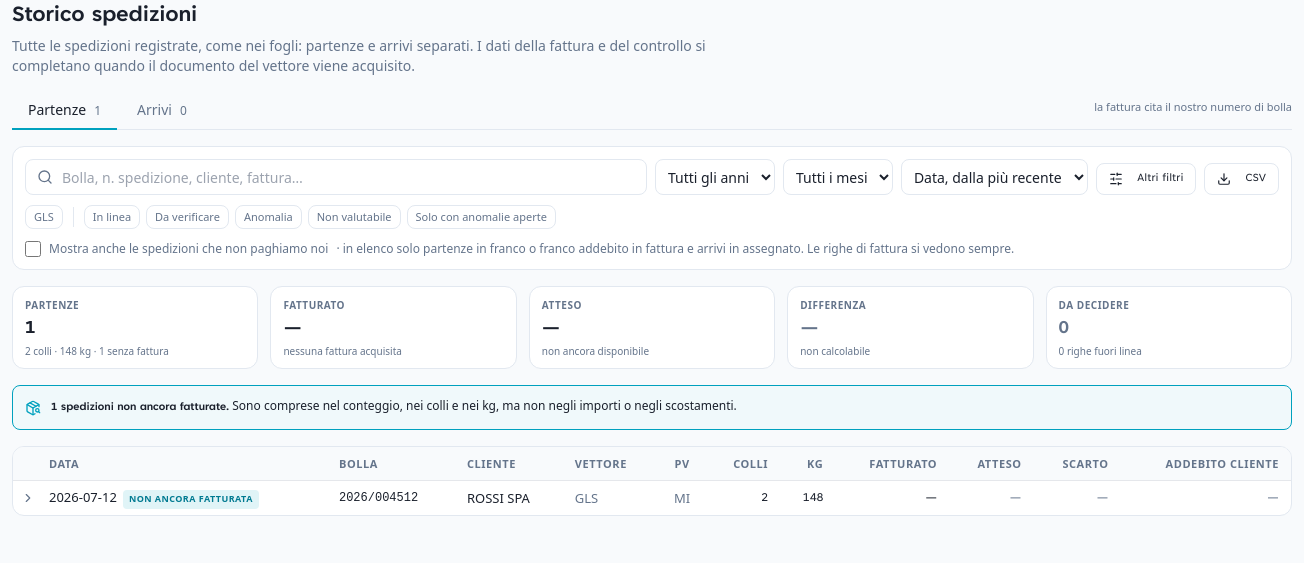
Test: StoricoView: filtri cambiati in fila › la risposta di un filtro superato non sostituisce quella dell'ultimo
Step 1. Select "agosto" in the dropdown named "Mese di riferimento" → (838, 177), box [783, 159, 893, 195]
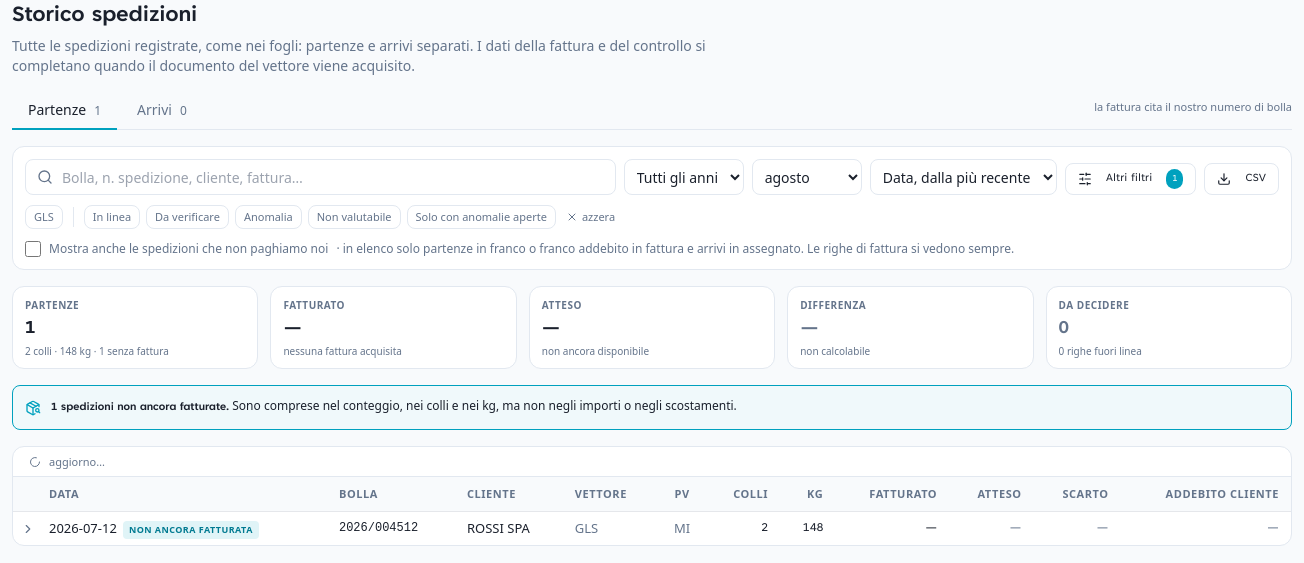
Step 2. Select "2026" in the dropdown named "Anno di riferimento" → (684, 177), box [624, 159, 744, 195]
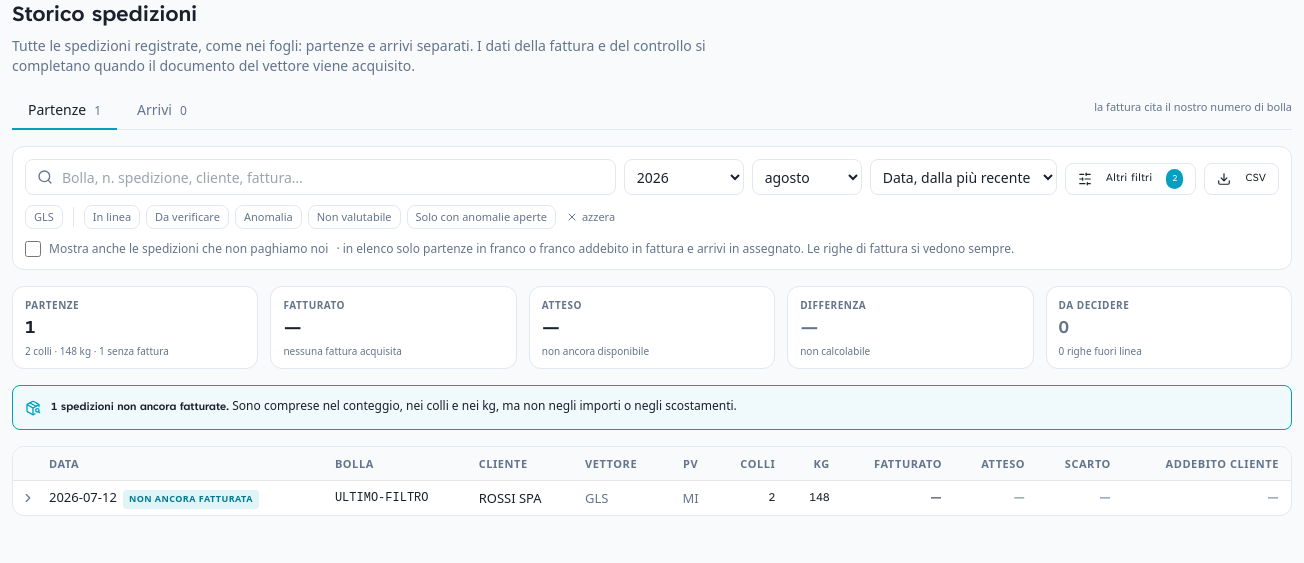
Expected: the text "ULTIMO-FILTRO" is shown, [323, 481, 467, 515]
